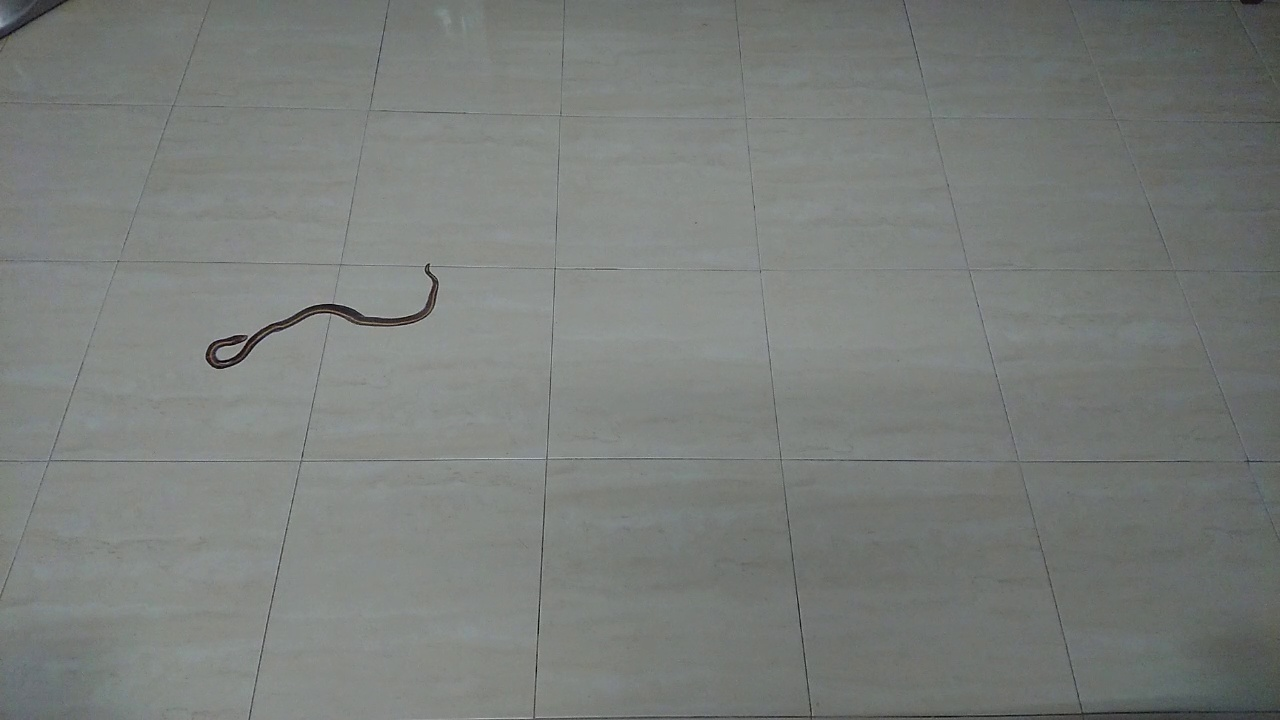snake: (194, 255, 448, 380)
